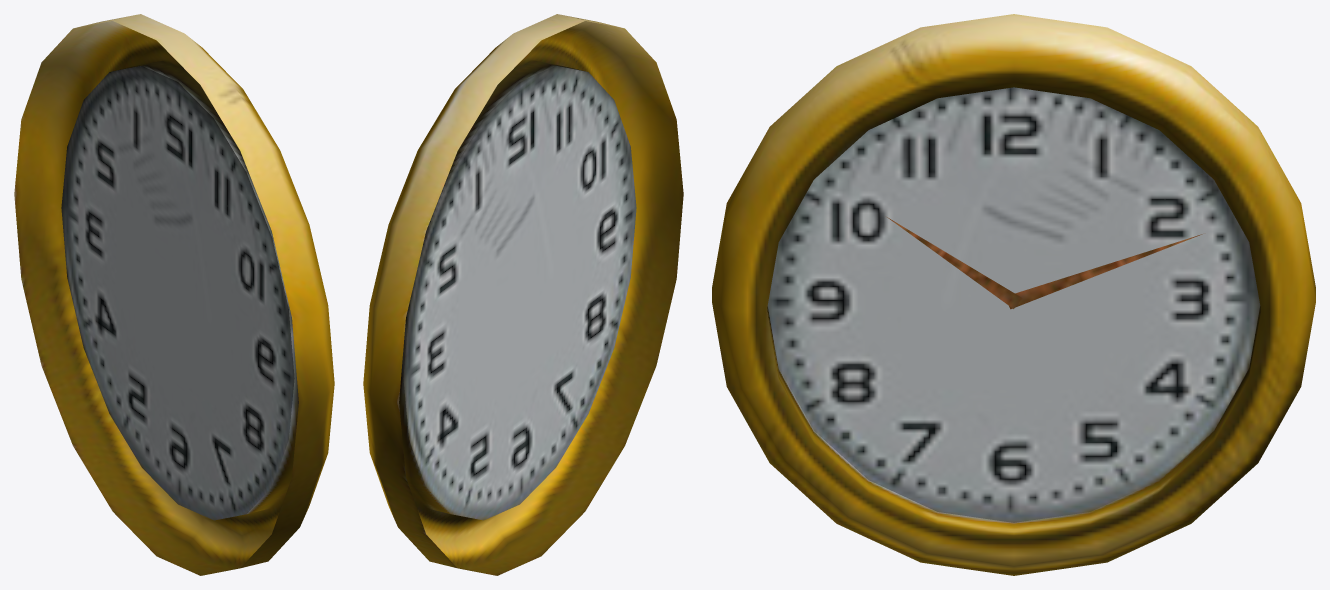
Rendered from clock1.fbx.
The picture shows the model from 3 angles, left to right: view 1: azimuth 30°, elevation 25°; view 2: azimuth 150°, elevation 25°; view 3: azimuth 270°, elevation 25°; orthographic projection. The views are drawn at different scales.
Parts seen in each view (by area): view 1: horloge01; view 2: horloge01; view 3: horloge01.
Part boxes in pixels (bbox=[...]): horloge01: bbox=[14, 14, 334, 575]; horloge01: bbox=[363, 14, 683, 575]; horloge01: bbox=[712, 14, 1315, 575].
Size of the model in its own units: 3.56 by 38.11 by 38.11.
